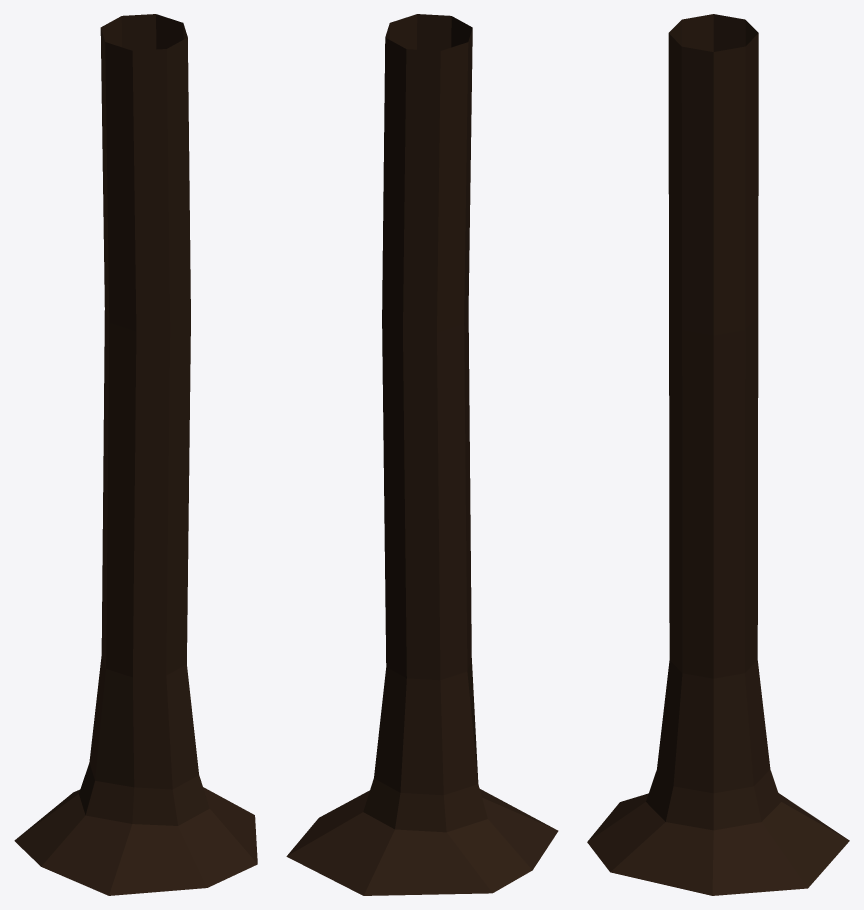
Rendered from s_tree_02.FBX.
3 views of the same model, side by side, from view 1: azimuth 30°, elevation 25°; view 2: azimuth 150°, elevation 25°; view 3: azimuth 270°, elevation 25° (orthographic).
Visible parts, largest first — view 1: s_tree_02; view 2: s_tree_02; view 3: s_tree_02.
Boxes of the visible parts, x1=… form: s_tree_02: x1=14, y1=14, x2=257, y2=895; s_tree_02: x1=286, y1=14, x2=558, y2=895; s_tree_02: x1=587, y1=14, x2=849, y2=895.
Size of the model in its own units: 1.08 by 3.92 by 1.15.
